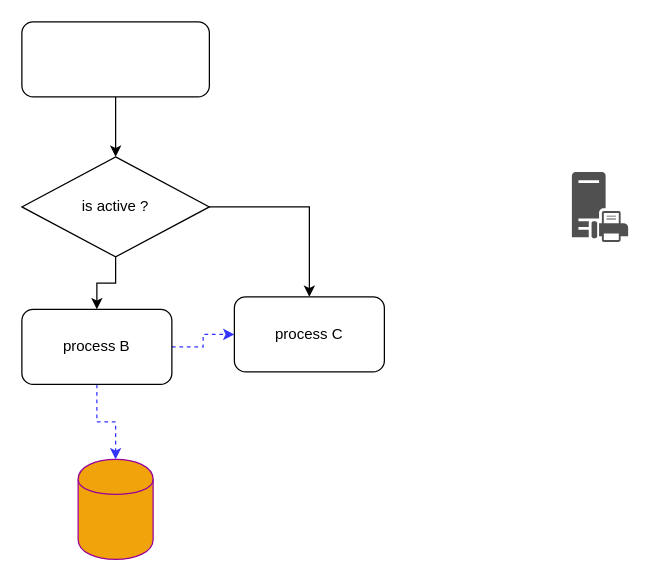
Some shapes in this 650 by 581 pixel diagram are drawn without their labels. The box of each missing label's shape, as (x1, y1, x2, y2) in pixels:
DB: (77, 458, 153, 559)
process A: (21, 21, 209, 97)
